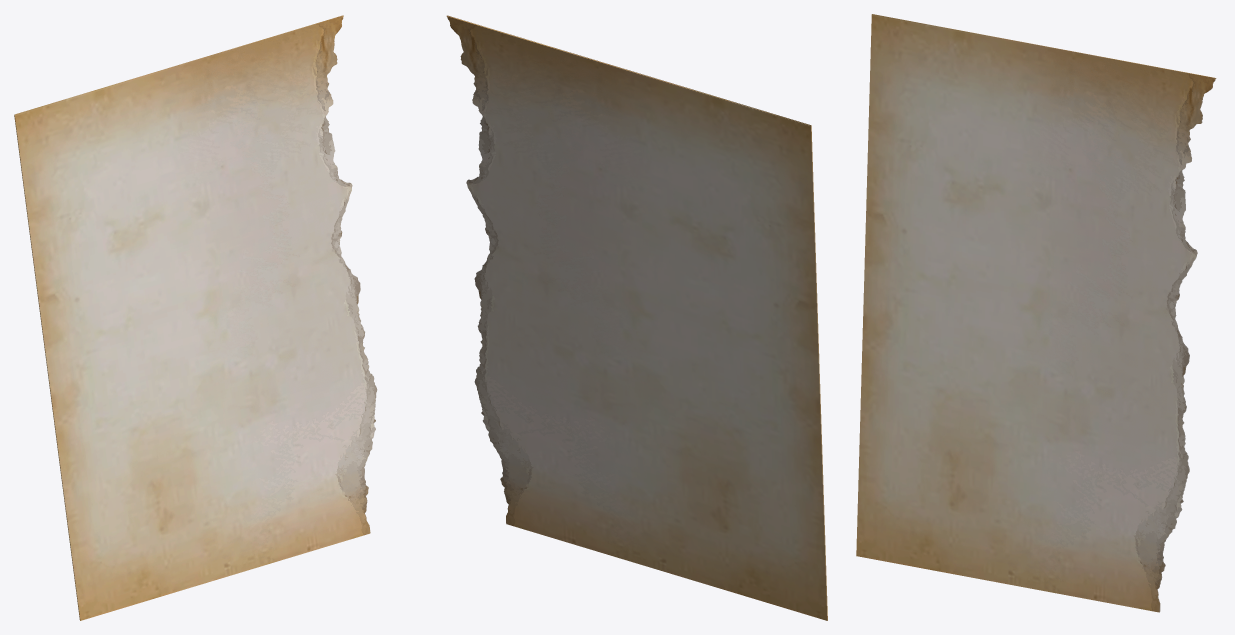
Rendered from VJ_Pagina_Diari_Trencada_Animada.fbx.
3 views of the same model, side by side, from view 1: azimuth 30°, elevation 25°; view 2: azimuth 150°, elevation 25°; view 3: azimuth 330°, elevation 25° (orthographic). The views are drawn at different scales.
Visible parts, largest first — view 1: VJ_Pagina_Diari_Trencada; view 2: VJ_Pagina_Diari_Trencada; view 3: VJ_Pagina_Diari_Trencada.
Boxes of the visible parts, x1,y1,x2,y2 form: VJ_Pagina_Diari_Trencada: (14,15,377,620); VJ_Pagina_Diari_Trencada: (446,15,827,620); VJ_Pagina_Diari_Trencada: (856,14,1216,612).
Bounding box in the file's own units: 3.35 × 4.48 × 0.6604.
1 material, 1 textured.
